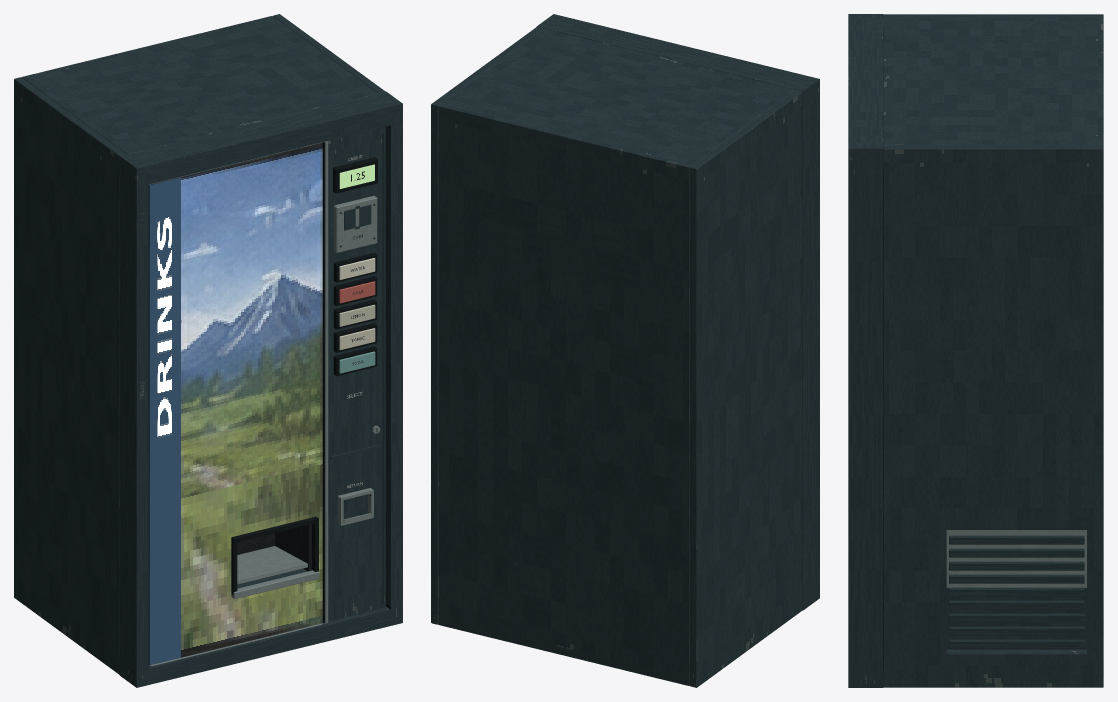
The model's file is vending_machine.glb.
3 renders of one model, left to right at view 1: azimuth 30°, elevation 25°; view 2: azimuth 150°, elevation 25°; view 3: azimuth 270°, elevation 25°, orthographic. The views are drawn at different scales.
Visible parts, largest first — view 1: office_drinks_machine_runtime; view 2: office_drinks_machine_runtime; view 3: office_drinks_machine_runtime.
Part boxes in pixels (bbox=[...]): office_drinks_machine_runtime: bbox=[14, 14, 402, 687]; office_drinks_machine_runtime: bbox=[431, 14, 819, 687]; office_drinks_machine_runtime: bbox=[848, 14, 1103, 687].
Bounding box in the file's own units: 1 × 1.9 × 0.8.
Materials: 12 (5 with a texture image).
